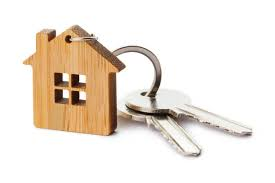key: (125, 86, 255, 137)
